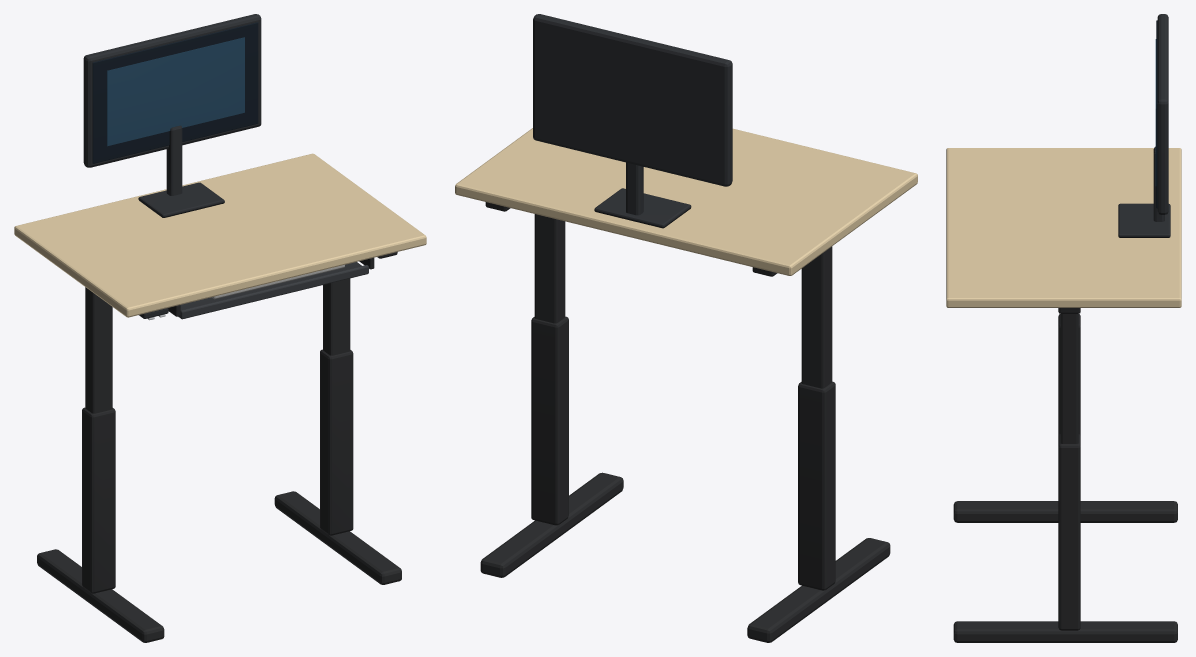
The model's file is deskStanding.glb.
3 views of the same model, side by side, from view 1: azimuth 30°, elevation 25°; view 2: azimuth 150°, elevation 25°; view 3: azimuth 270°, elevation 25° (orthographic). The views are drawn at different scales.
Parts seen in each view (by area): view 1: deskStanding, shelf; view 2: deskStanding; view 3: deskStanding.
Part boxes in pixels (bbox=[...]): deskStanding: bbox=[14, 14, 426, 642]; shelf: bbox=[178, 262, 368, 319]; deskStanding: bbox=[455, 14, 917, 642]; deskStanding: bbox=[946, 14, 1181, 642].
Size of the model in its own units: 0.96 by 1.54 by 0.63.
